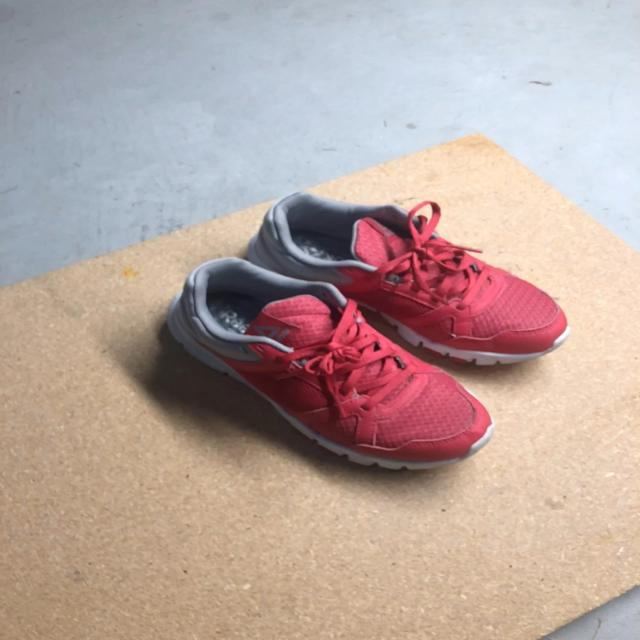shoe: (166, 262, 486, 458), (345, 202, 566, 359)
